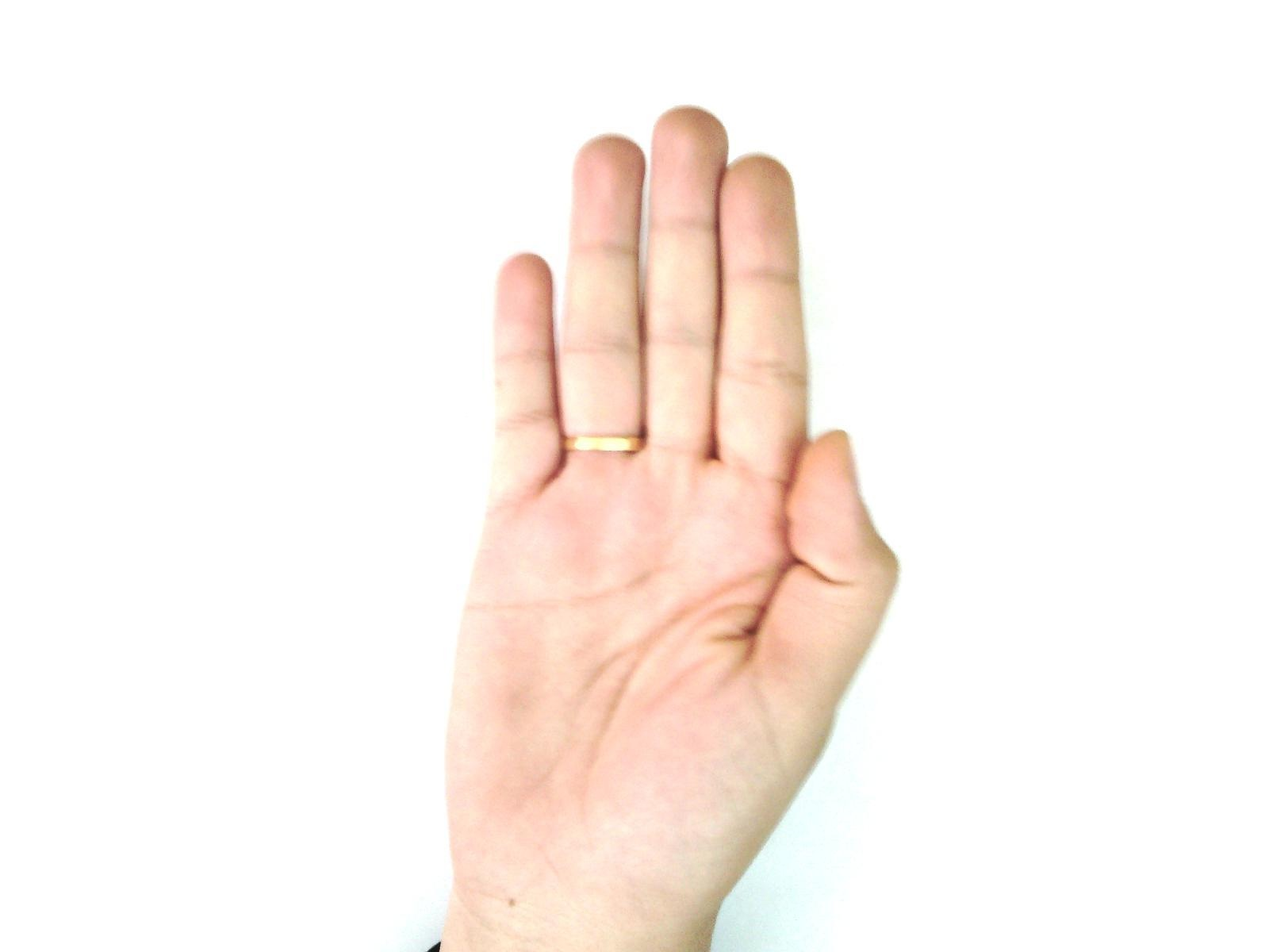open_palm: (436, 106, 903, 950)
